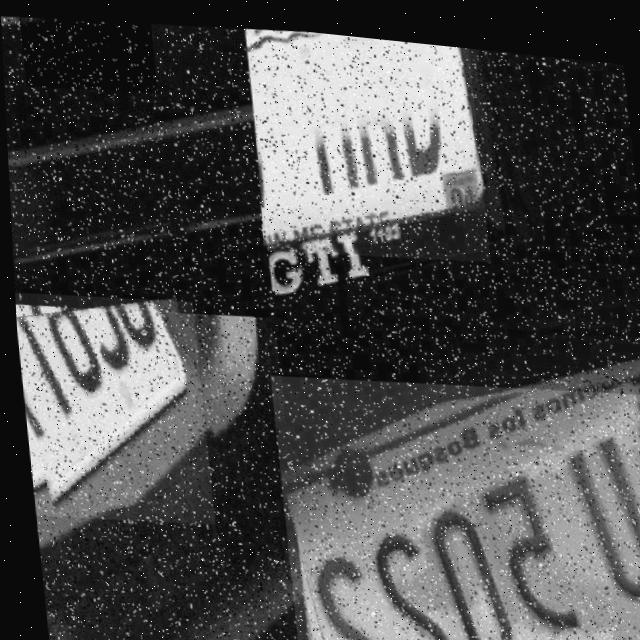LicensePlate: (265, 350, 640, 640), (243, 20, 488, 263), (13, 297, 198, 516), (19, 10, 157, 97)
